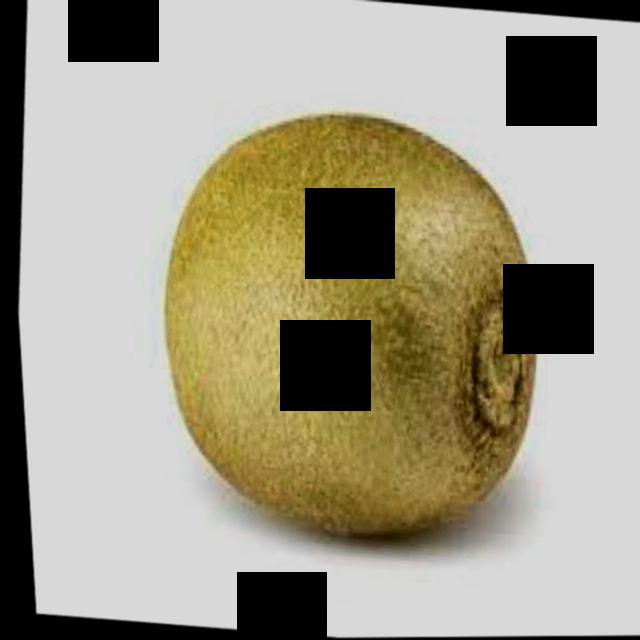kiwi: (129, 90, 562, 553)
